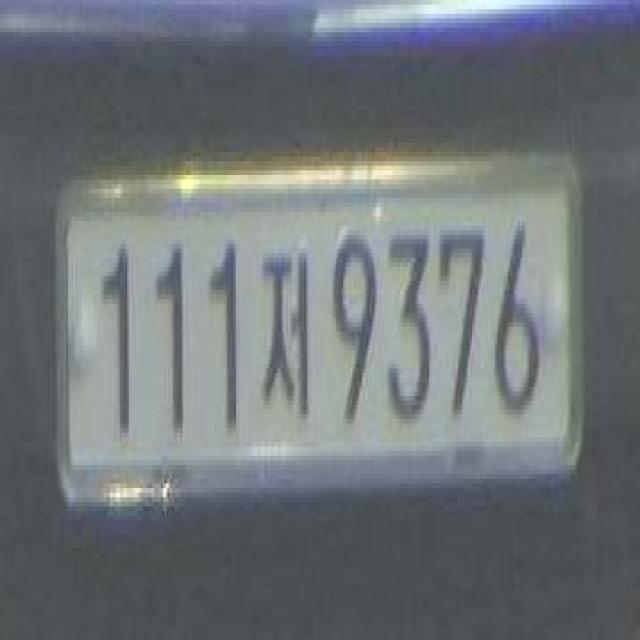illegal_plate: (55, 176, 579, 512)
